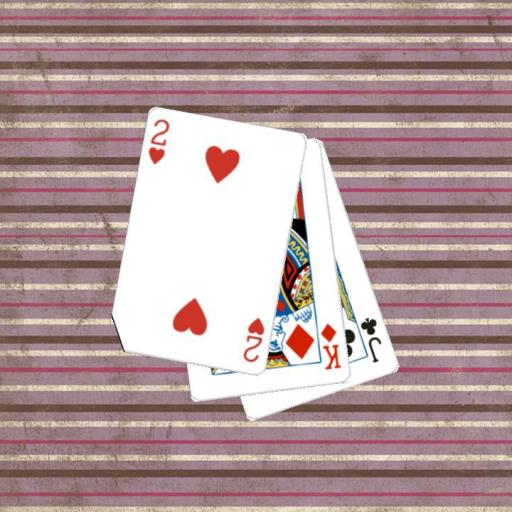2H: (240, 314, 267, 365), (145, 116, 171, 166)
JC: (357, 314, 384, 365)
KD: (318, 320, 343, 372)
